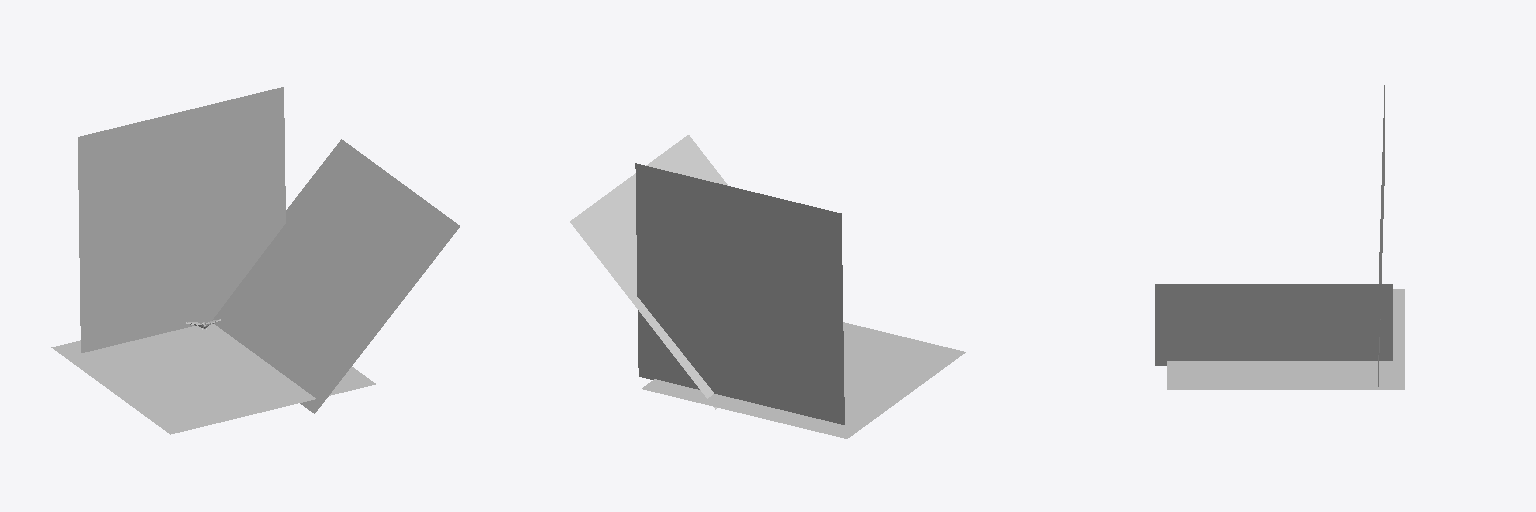
Rendered from owl.obj.
3 renders of one model, left to right at view 1: azimuth 30°, elevation 25°; view 2: azimuth 150°, elevation 25°; view 3: azimuth 270°, elevation 25°, orthographic.
Parts seen in each view (by area): view 1: Плоскость.001, Плоскость.002, Плоскость; view 2: Плоскость.001, Плоскость, Плоскость.002; view 3: Плоскость.002, Плоскость, Плоскость.001.
Part boxes in pixels (x1,y1,x2,y2): Плоскость.001: (78,87,285,352); Плоскость.002: (212,139,459,413); Плоскость: (51,322,375,434); Плоскость.001: (635,163,844,424); Плоскость: (642,322,965,438); Плоскость.002: (570,135,727,409); Плоскость.002: (1155,284,1392,365); Плоскость: (1167,289,1404,389); Плоскость.001: (1378,85,1384,386).
Size of the model in its own units: 31.74 by 23.8 by 24.26.